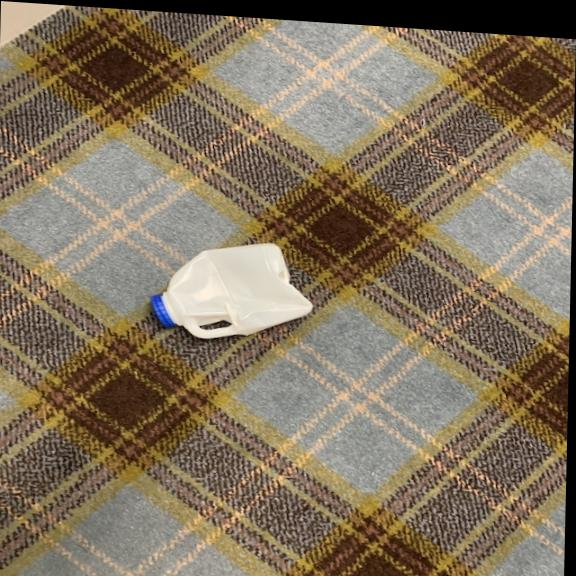Plastik: (143, 231, 321, 345)
